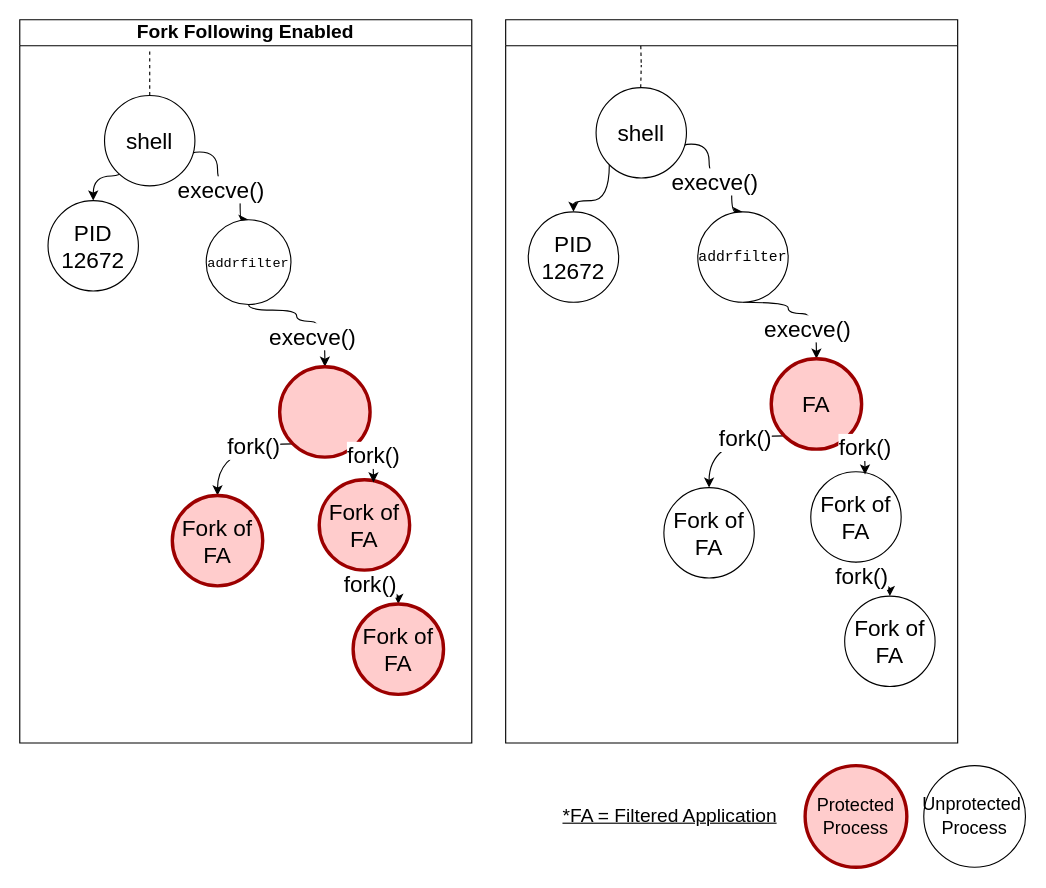
This 1046x888 diagram has some shape labels left out. Here are the shapes that lost their labels. From the top down, the centre of each, then its label:
At pixel 731 381: "No Fork Following".
At pixel 324 411: "FA*".
